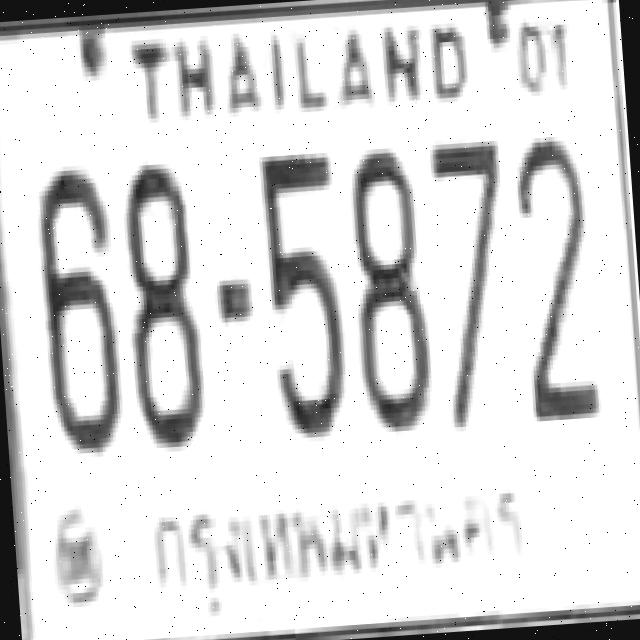2: (510, 128, 598, 420)
5: (256, 145, 350, 437)
6: (32, 161, 124, 453)
7: (428, 133, 517, 430)
8: (343, 142, 434, 428), (118, 155, 206, 447)
Bangkok: (139, 466, 535, 622)
